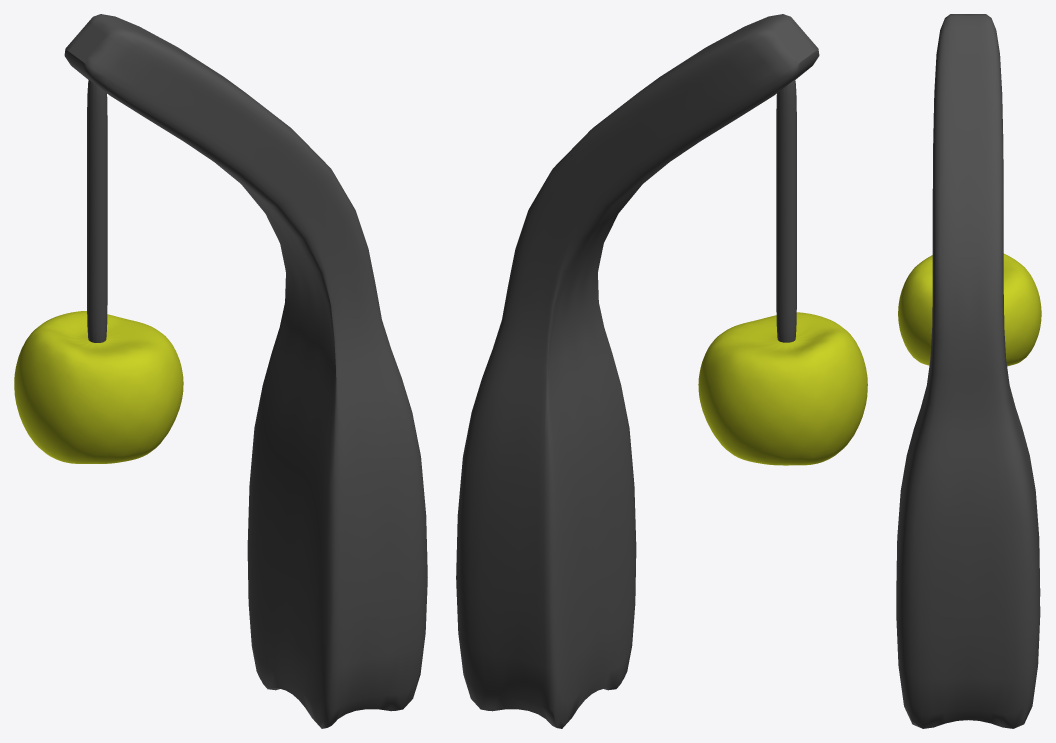
File: Lights 5.fbx
The picture shows the model from 3 angles, left to right: view 1: azimuth 30°, elevation 25°; view 2: azimuth 150°, elevation 25°; view 3: azimuth 270°, elevation 25°; orthographic projection. The views are drawn at different scales.
Parts seen in each view (by area): view 1: Cube, Sphere, Cylinder; view 2: Cube, Sphere, Cylinder; view 3: Cube, Sphere.
Boxes of the visible parts, x1,y1,x2,y2 form: Cube: [64, 14, 427, 728]; Sphere: [14, 311, 183, 463]; Cylinder: [87, 79, 107, 342]; Cube: [456, 14, 819, 728]; Sphere: [698, 312, 867, 465]; Cylinder: [776, 79, 796, 342]; Cube: [896, 14, 1040, 728]; Sphere: [898, 253, 1041, 366].
Bounding box in the file's own units: 278 × 528 × 114.
